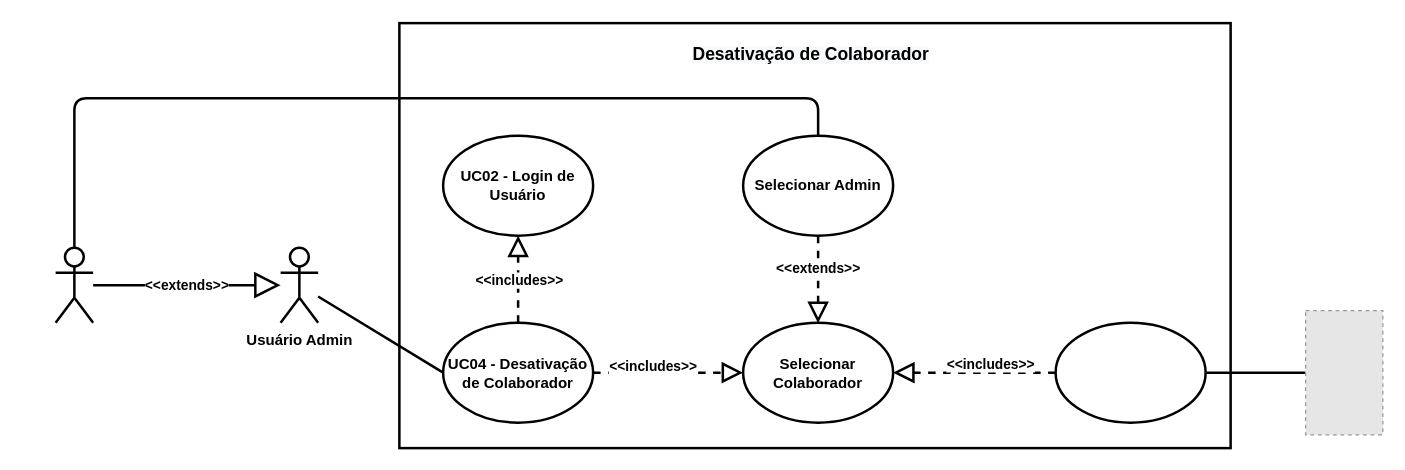
The diagram is 1405 pixels wide and 470 high, and some of its shapes have lost their labels. Grey dashed boxes stand in for pictures. Here are the shapes that lost their labels. From the top down, the centre of each, then its label:
the point at 74,284: Usuário Owner
the point at 1130,372: Bloquear conta do colaborador
